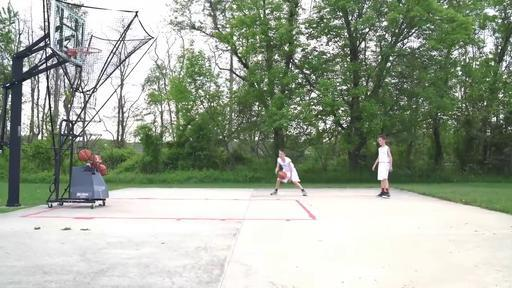ball: (78, 148, 92, 162), (92, 154, 102, 167), (100, 163, 108, 176), (278, 170, 288, 180)
human: (270, 148, 308, 197), (372, 137, 394, 198)
rim: (70, 46, 102, 76)
